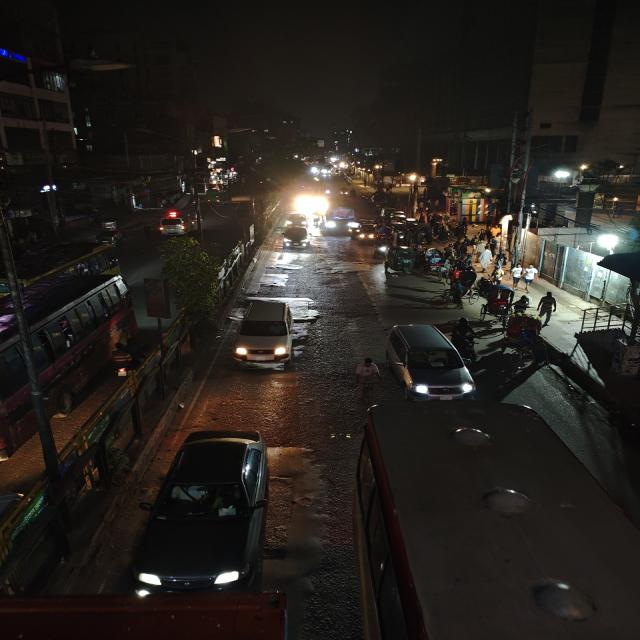bus: (352, 400, 620, 640), (1, 271, 134, 471), (326, 202, 356, 230)
car: (126, 428, 279, 594), (383, 320, 476, 402), (231, 296, 302, 370), (156, 208, 199, 238), (279, 224, 313, 252), (348, 220, 378, 244), (284, 212, 309, 228)
cng: (385, 248, 416, 276), (94, 229, 124, 248)
motorcycle: (109, 340, 134, 379), (311, 213, 324, 230)
pedestrian: (500, 313, 530, 353), (537, 291, 558, 324), (512, 262, 533, 292), (446, 280, 467, 308), (521, 262, 539, 290), (514, 294, 533, 317), (509, 262, 524, 290), (495, 250, 509, 274)
rickshaw: (606, 328, 640, 380), (374, 241, 390, 257)
